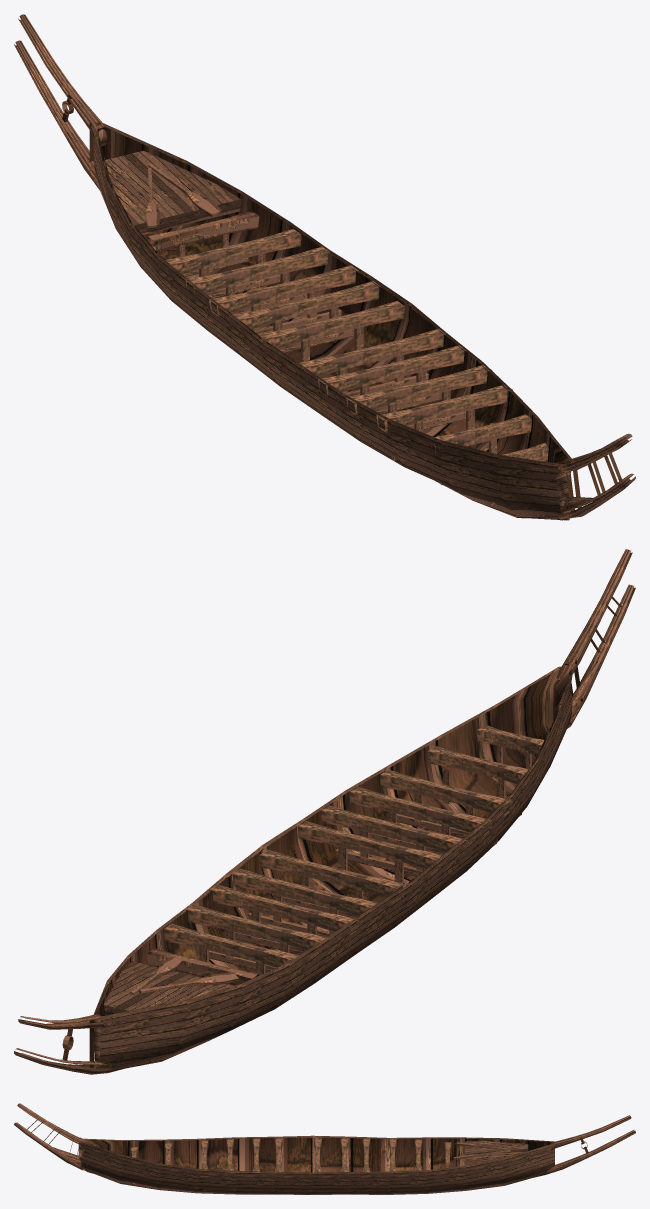
Rendered from germ_boat_arrow.dae.
3 renders of one model, top to bottom at view 1: azimuth 30°, elevation 25°; view 2: azimuth 150°, elevation 25°; view 3: azimuth 270°, elevation 25°, orthographic. The views are drawn at different scales.
Visible parts, largest first — view 1: boat_germ_arrow; view 2: boat_germ_arrow; view 3: boat_germ_arrow.
Boxes of the visible parts, <box> form: boat_germ_arrow: <box>14,14,635,520</box>; boat_germ_arrow: <box>14,549,635,1074</box>; boat_germ_arrow: <box>14,1103,635,1194</box>.
Size of the model in its own units: 5.27 by 36.9 by 5.76.
